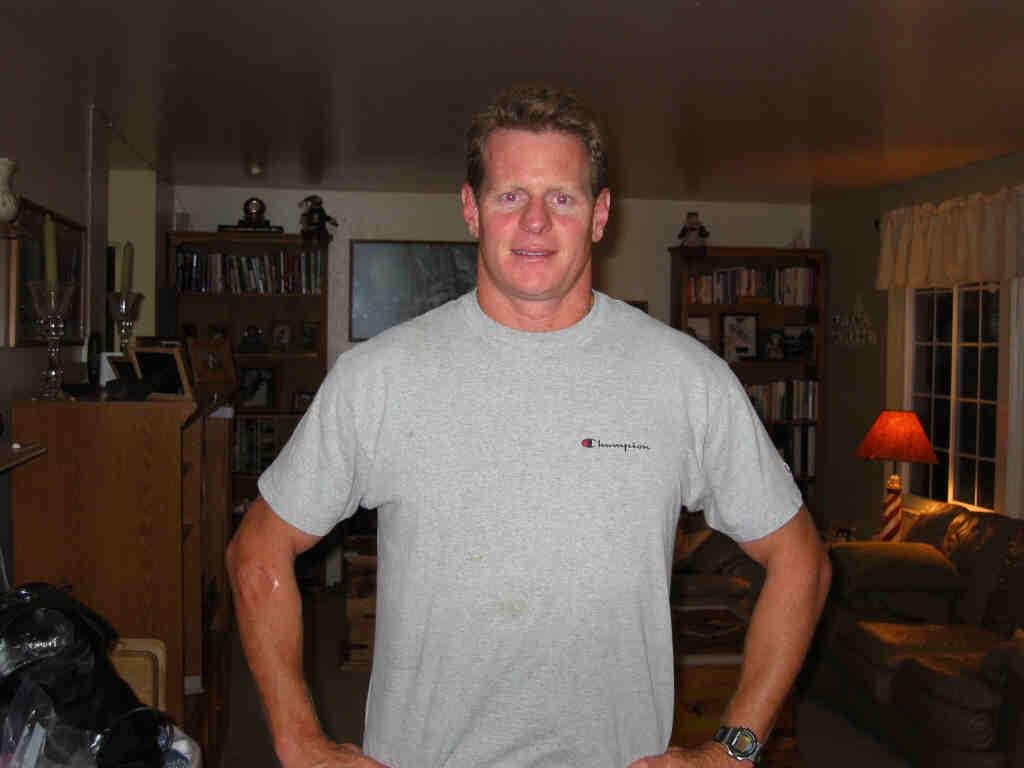face: (484, 144, 586, 288)
